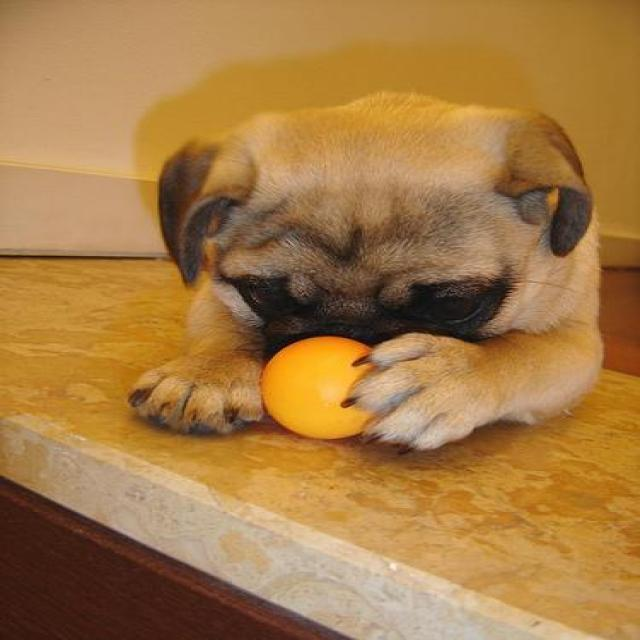ping-pong-ball: (255, 338, 398, 442)
